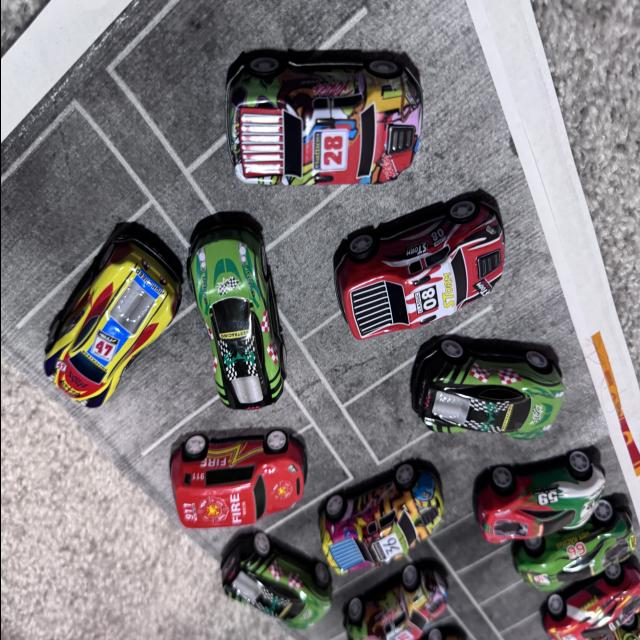car: (192, 46, 435, 180), (172, 205, 288, 452), (353, 348, 564, 483), (369, 175, 524, 354), (78, 185, 180, 411), (436, 446, 608, 580), (150, 418, 306, 560), (478, 510, 638, 640), (217, 544, 355, 640), (348, 538, 454, 640), (318, 487, 452, 553), (546, 577, 640, 637), (272, 541, 448, 553)
